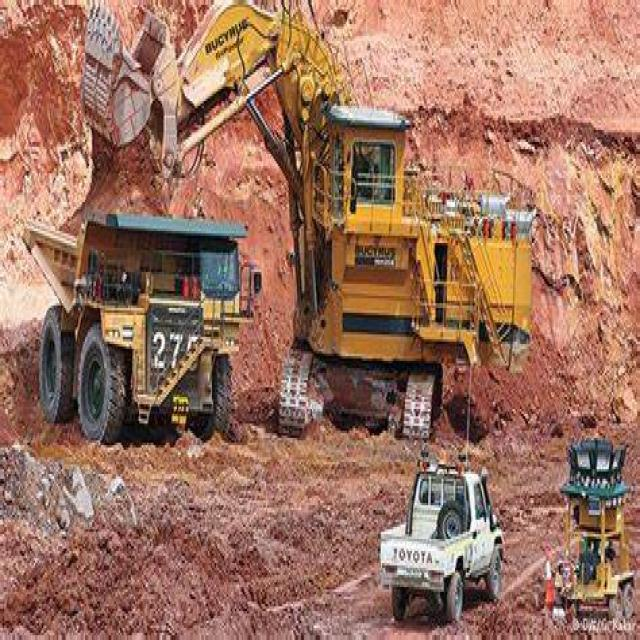dump_truck: (24, 192, 255, 464)
excavator: (66, 5, 550, 443)
light_vehicle: (369, 428, 513, 623)
